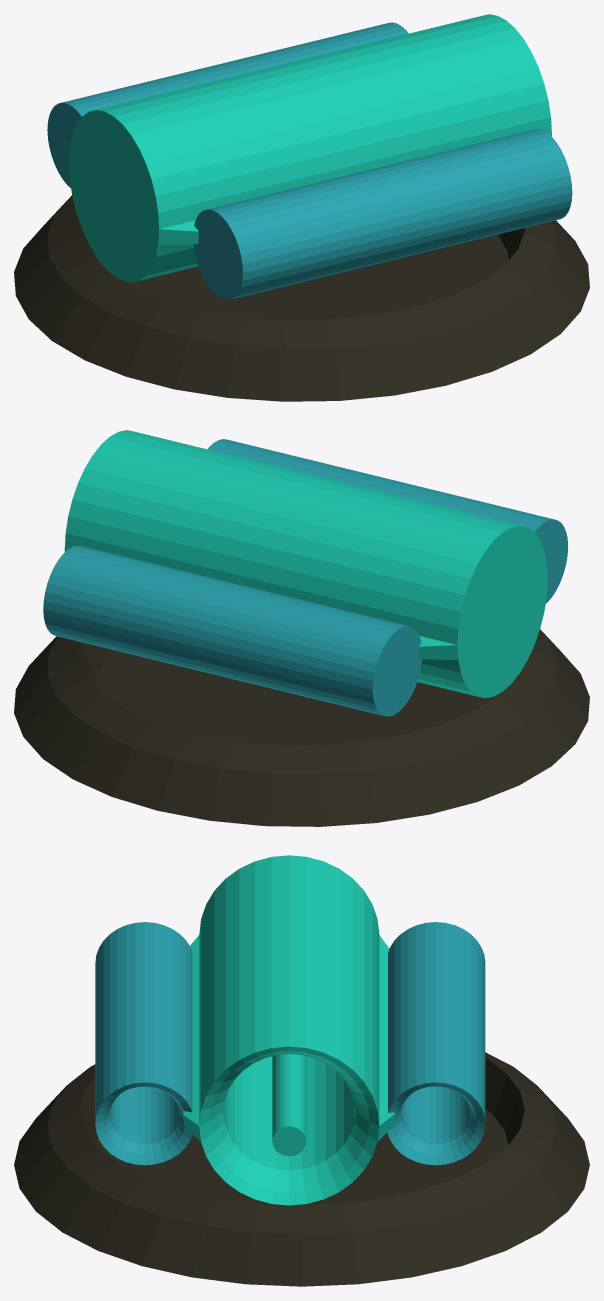
The model's file is laser_gun.obj.
3 views of the same model, one above another, from view 1: azimuth 30°, elevation 25°; view 2: azimuth 150°, elevation 25°; view 3: azimuth 270°, elevation 25° (orthographic).
Parts seen in each view (by area): view 1: Circle, Cylinder, Cylinder.001, Cylinder.002; view 2: Circle, Cylinder, Cylinder.002, Cylinder.001; view 3: Circle, Cylinder, Cylinder.002, Cylinder.001.
Boxes of the visible parts, x1,y1,x2,y2 form: Circle: [14, 195, 589, 401]; Cylinder: [69, 14, 551, 282]; Cylinder.001: [193, 129, 572, 299]; Cylinder.002: [47, 22, 408, 187]; Circle: [14, 629, 589, 826]; Cylinder: [64, 430, 547, 698]; Cylinder.002: [43, 545, 421, 716]; Cylinder.001: [207, 439, 568, 603]; Circle: [14, 1052, 589, 1286]; Cylinder: [183, 855, 394, 1205]; Cylinder.002: [387, 922, 485, 1165]; Cylinder.001: [95, 922, 192, 1165].
Bounding box in the file's own units: 11.68 × 4.81 × 11.68.
